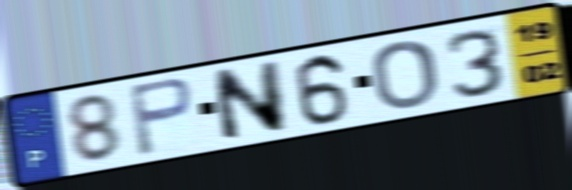3: (444, 25, 509, 100)
6: (291, 51, 351, 127)
8: (62, 91, 124, 165)
N: (208, 57, 289, 145)
O: (368, 37, 441, 111)
P: (125, 75, 197, 159)
